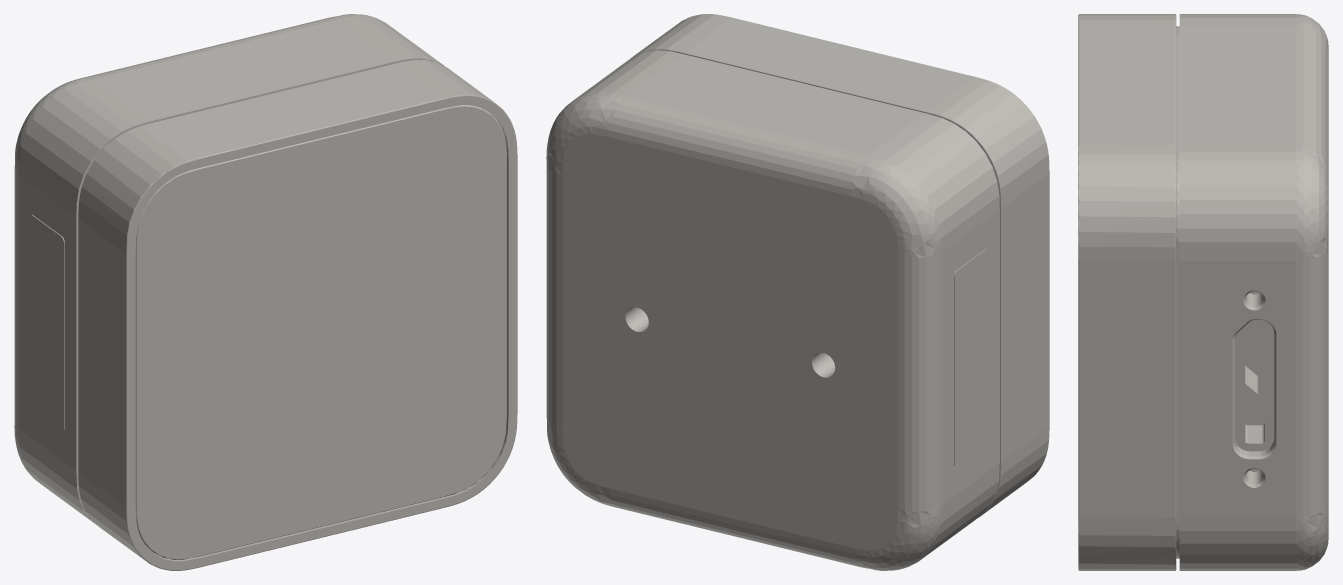
Rendered from d405__camg.glb.
The picture shows the model from 3 angles, left to right: view 1: azimuth 30°, elevation 25°; view 2: azimuth 150°, elevation 25°; view 3: azimuth 270°, elevation 25°; orthographic projection.
Visible parts, largest first — view 1: d405.stl; view 2: d405.stl; view 3: d405.stl.
Part boxes in pixels (x1=…): d405.stl: x1=14, y1=14, x2=517, y2=570; d405.stl: x1=546, y1=14, x2=1049, y2=570; d405.stl: x1=1078, y1=14, x2=1328, y2=570.
Bounding box in the file's own units: 42.09 × 42 × 23.
1 material, 1 textured.
